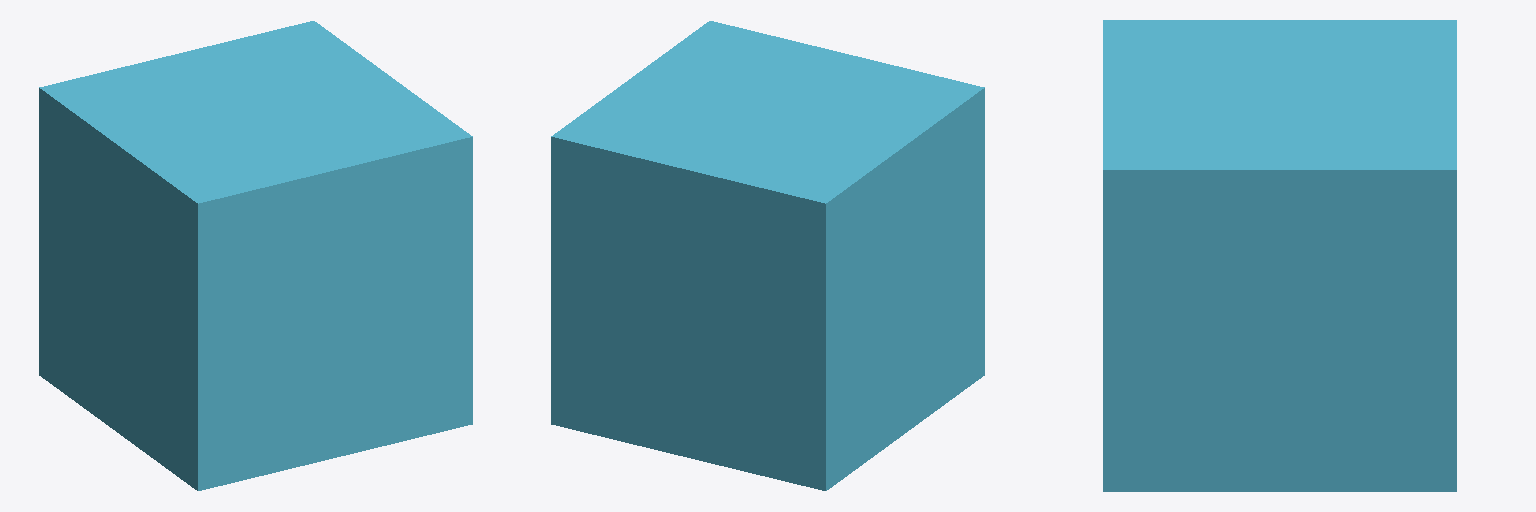
The robot description file, URDF, robot "BlueCube":
<?xml version="1.0" encoding="utf-8"?>
<!-- =================================================================================== -->
<!-- |    This document was autogenerated by xacro from BlueCube.xacro                 | -->
<!-- |    EDITING THIS FILE BY HAND IS NOT RECOMMENDED                                 | -->
<!-- =================================================================================== -->
<robot name="BlueCube">
  <material name="gray">
    <color rgba="0.675 0.675 0.675 1.000"/>
  </material>
  <material name="off_white">
    <color rgba="0.961 0.961 0.953 1.000"/>
  </material>
  <material name="green">
    <color rgba="0.537 0.878 0.651 1.000"/>
  </material>
  <material name="blue">
    <color rgba="0.419 0.796 0.898 1.000"/>
  </material>

  
  <link name="base_link">
    <inertial>
      <origin rpy="0 0 0" xyz="0.0 0.0 0.0"/>
      <mass value="5.0"/>
      <inertia ixx="0.1" ixy="0.0" ixz="0.0" iyy="0.1" iyz="0.0" izz="0.1"/>
    </inertial>
    <visual>
      <origin rpy="1.5708 0 0" xyz="0.5 0.2 1.664629"/>
      <geometry>
        <mesh filename="package://cv_ur5_project/meshes/cube_link.stl" scale="0.001 0.001 0.001"/>
      </geometry>
      <material name="blue"/>
    </visual>
    <collision>
      <origin rpy="1.5708 0 0" xyz="0.5 0.2 1.664629"/>
      <geometry>
        <mesh filename="package://cv_ur5_project/meshes/cube_link.stl" scale="0.001 0.001 0.001"/>
      </geometry>
    </collision>
  </link>
  <gazebo reference="base_link">
    <material>Gazebo/Turquoise</material>
    <mu1>50</mu1>
    <mu2>50</mu2>
  </gazebo>
</robot>

--- Facts derived from the render (not from the file) ---
3 views of the same robot in one strip: view 1: azimuth 30°, elevation 25°; view 2: azimuth 150°, elevation 25°; view 3: azimuth 270°, elevation 25° (orthographic).
Model BlueCube with 1 links and 0 joints (none), rooted at base_link, posed all joints at 0.
Links seen in each view (by area): view 1: base_link; view 2: base_link; view 3: base_link.
Link boxes in pixels (<box>): base_link: <box>39,21,472,490</box>; base_link: <box>551,21,984,490</box>; base_link: <box>1103,20,1456,491</box>.
Bounding box of the posed robot: 0.0762 × 0.0762 × 0.0762 m (x, y, z).
Meshes: 1 distinct files referenced, 1 mesh visuals loaded (1 binary STL).